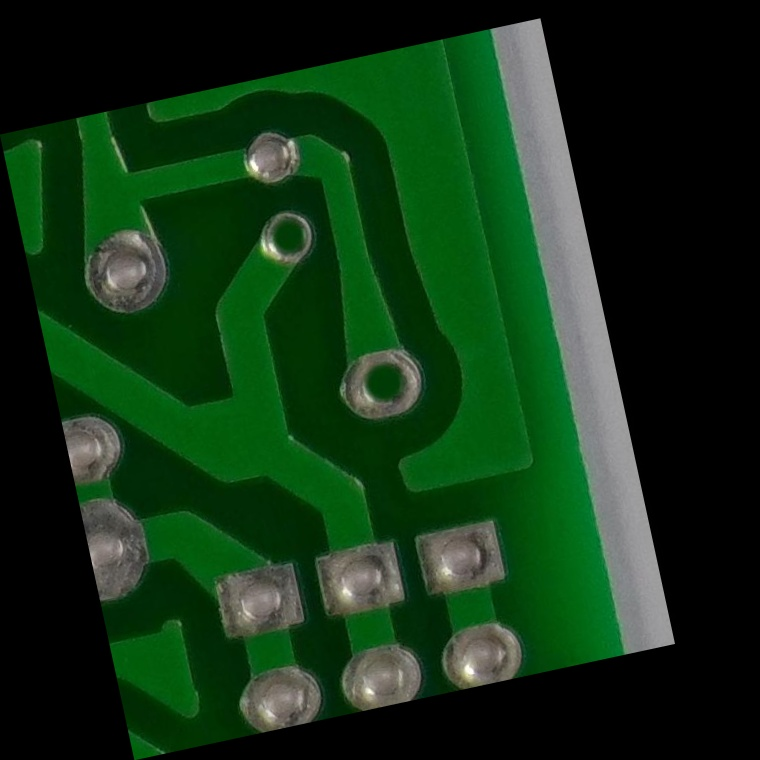missing_hole: (328, 333, 432, 427)
